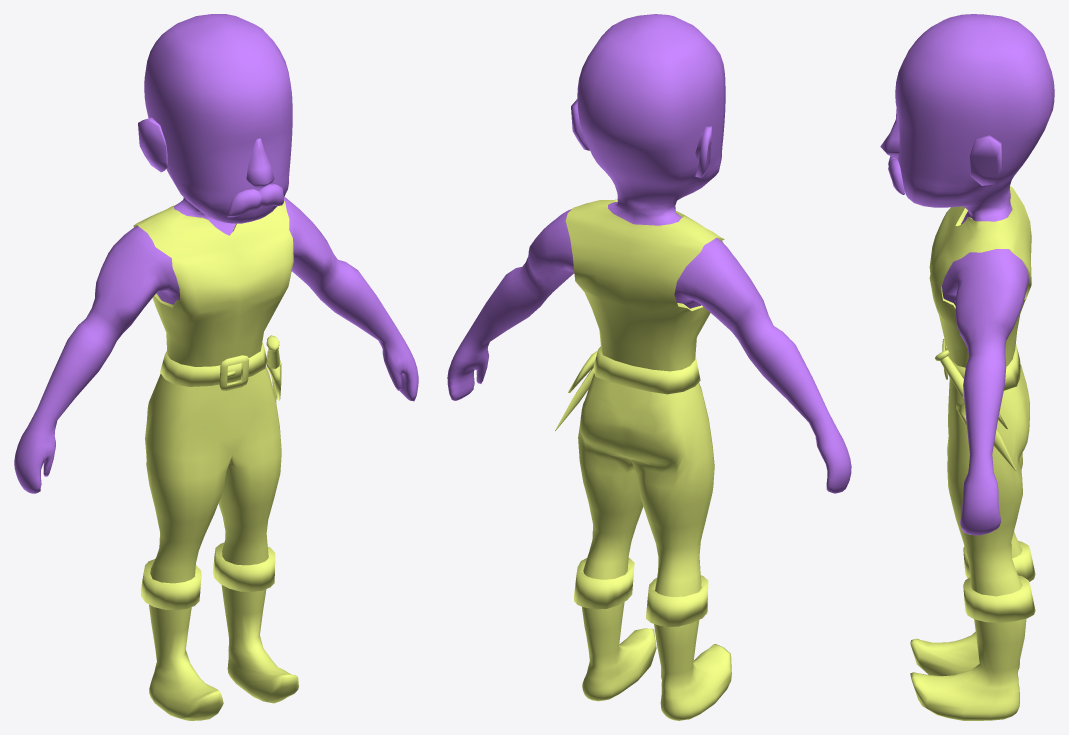
File: NPC01.fbx
The picture shows the model from 3 angles, left to right: view 1: azimuth 30°, elevation 25°; view 2: azimuth 150°, elevation 25°; view 3: azimuth 270°, elevation 25°; orthographic projection.
Parts seen in each view (by area): view 1: NPC01; view 2: NPC01; view 3: NPC01.
Part boxes in pixels (x1,y1,x2,y2): NPC01: [14, 14, 418, 720]; NPC01: [447, 14, 851, 720]; NPC01: [880, 14, 1054, 720].
Bounding box in the file's own units: 122 × 198 × 46.45.
